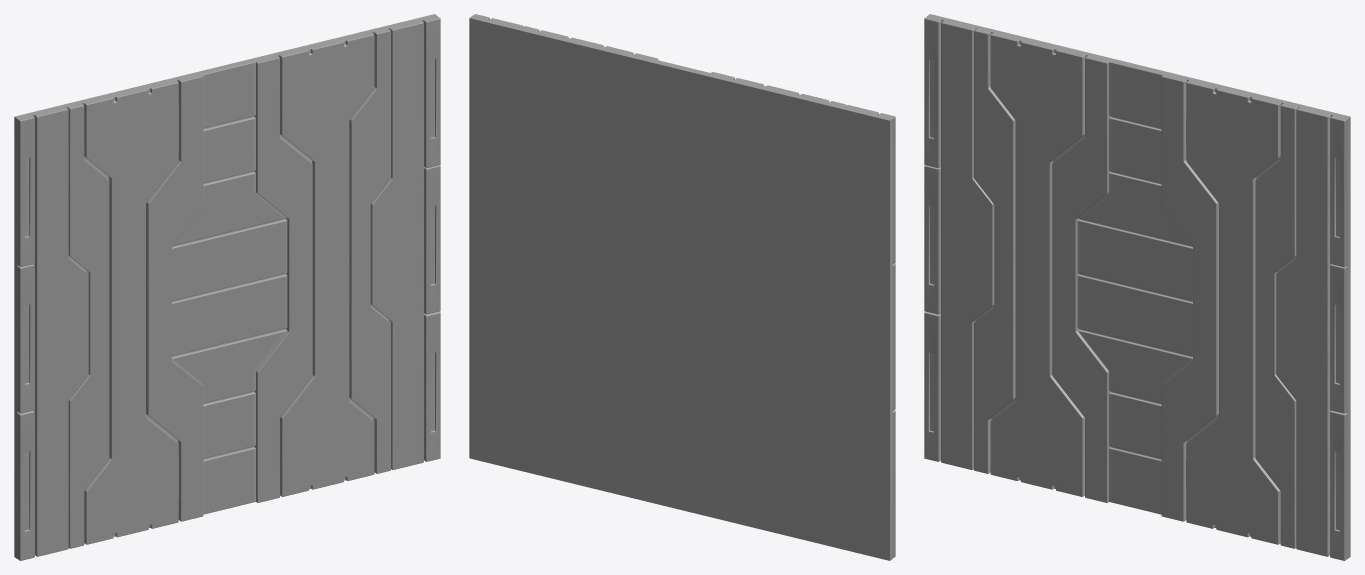
Rendered from uploads_files_7020070_Sci-Fi_Wall_Vol2_Free.fbx.fbx.
The picture shows the model from 3 angles, left to right: view 1: azimuth 30°, elevation 25°; view 2: azimuth 150°, elevation 25°; view 3: azimuth 330°, elevation 25°; orthographic projection.
Visible parts, largest first — view 1: SM_SciFi_Wall_03; view 2: SM_SciFi_Wall_03; view 3: SM_SciFi_Wall_03.
Part boxes in pixels (x1,y1,x2,y2): SM_SciFi_Wall_03: (14,14,440,560); SM_SciFi_Wall_03: (469,14,895,560); SM_SciFi_Wall_03: (924,14,1350,560).
Size of the model in its own units: 200 by 5 by 200.
1 material, 1 textured.
